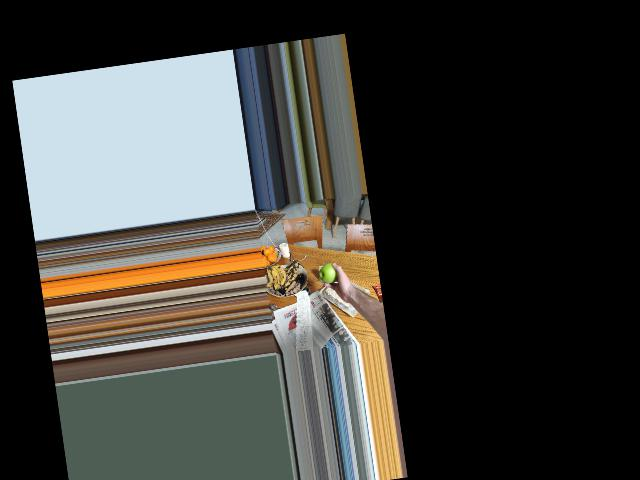apple: (317, 259, 343, 287)
